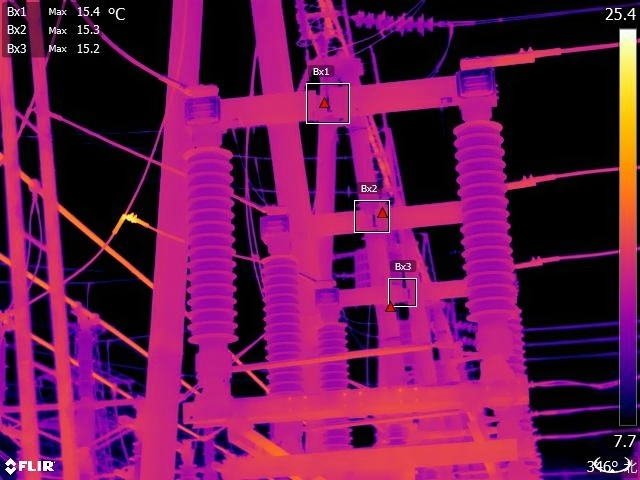clamp: (113, 202, 148, 233), (25, 166, 41, 204)
insulator: (345, 4, 434, 42)
post insulator: (445, 113, 529, 329), (181, 140, 252, 352), (255, 248, 312, 399), (317, 315, 356, 460), (71, 324, 100, 400)
switch: (177, 59, 504, 138)
wave trap: (347, 244, 404, 293)
